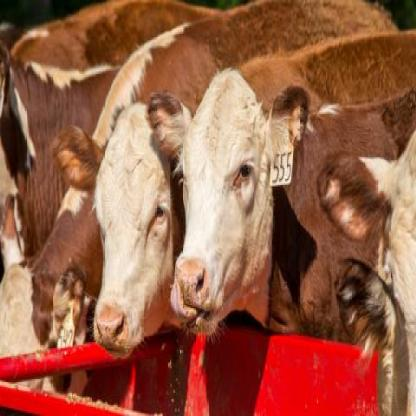cow: (0, 0, 399, 393), (145, 61, 416, 345), (51, 96, 195, 364), (315, 120, 416, 416), (0, 37, 124, 259)
